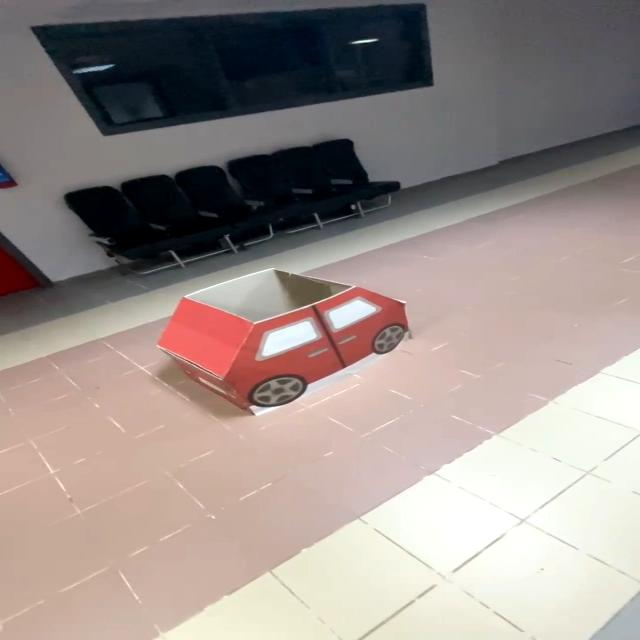red_car: (130, 259, 463, 432)
